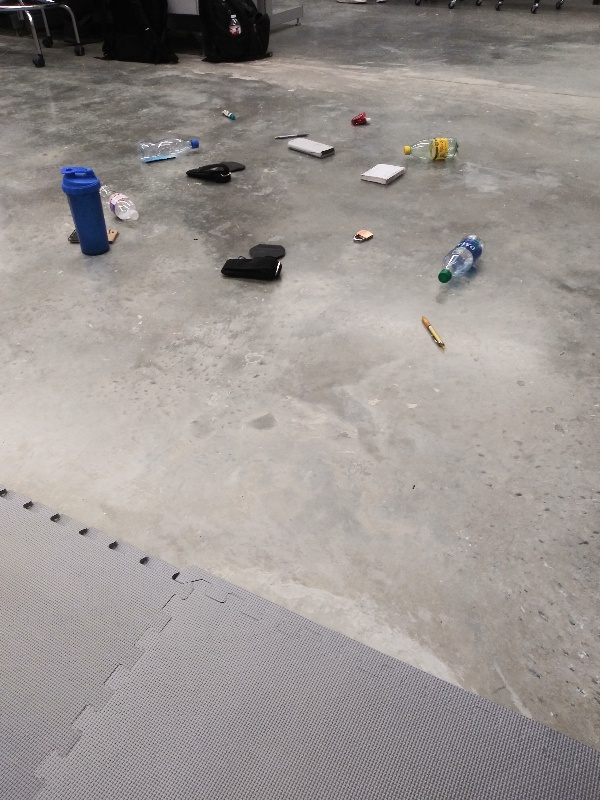bottle: (437, 232, 489, 289), (135, 131, 204, 166), (96, 180, 145, 227), (399, 133, 464, 164)
